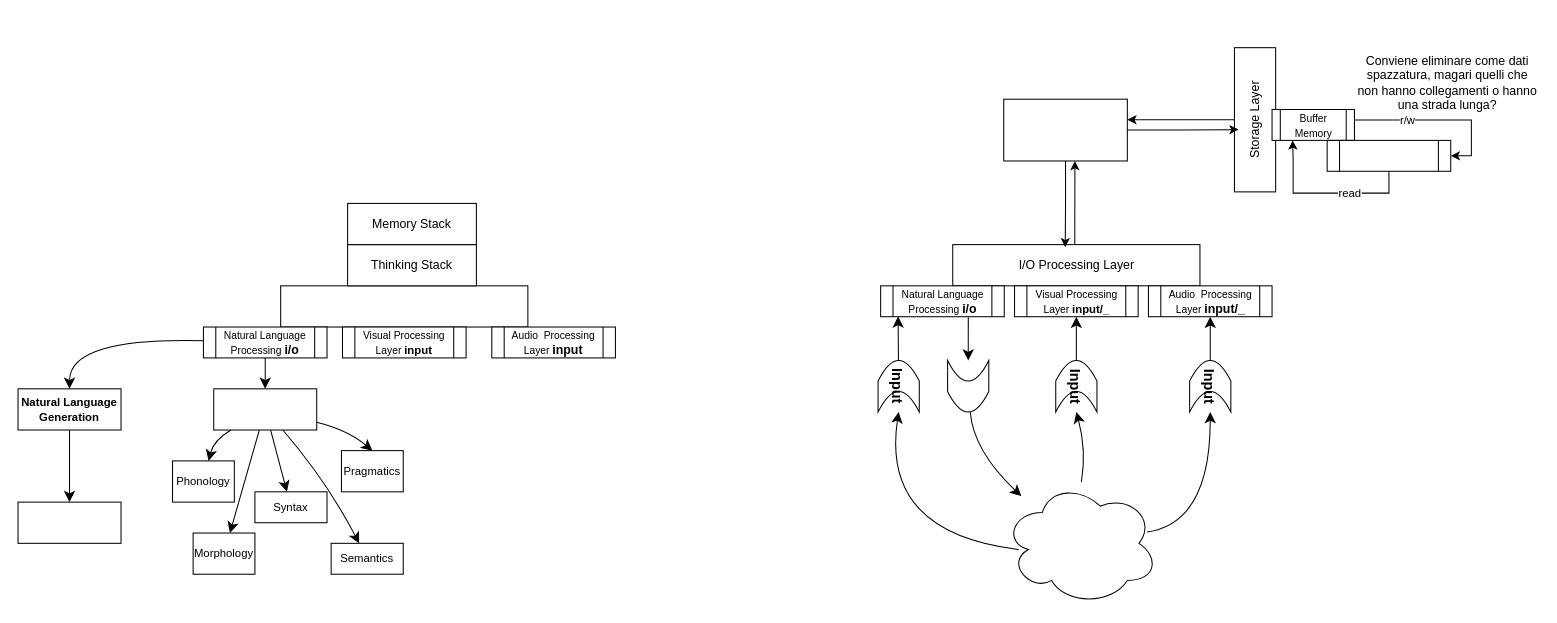
Some shapes in this 1557 by 623 pixel diagram are drawn without their labels. The shapes that lost their labels are listed below. From the top down, each one's centre as x and y in pixels, then its label:
At [1065,129]: "Thinking Layer".
At [1388,155]: "The Memory".
At [404,306]: "Cognitive Abstraction Layer (CAL)".
At [968,385]: "Output".
At [265,409]: "Natural Language Understanding".
At [69,522]: "Natural Language Texts".
At [1080,542]: "External Enviroment".
